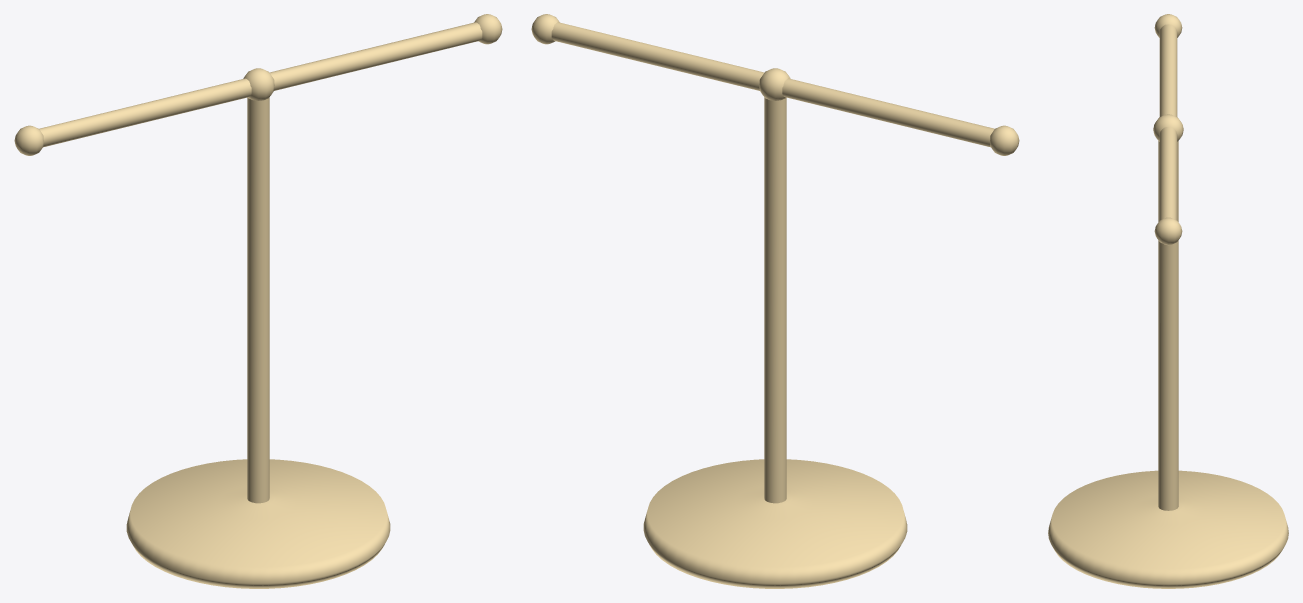
Rendered from EarringStand.obj.
3 renders of one model, left to right at view 1: azimuth 30°, elevation 25°; view 2: azimuth 150°, elevation 25°; view 3: azimuth 270°, elevation 25°, orthographic. The views are drawn at different scales.
Visible parts, largest first — view 1: Brass; view 2: Brass; view 3: Brass.
Boxes of the visible parts, x1=… form: Brass: x1=14, y1=14, x2=502, y2=588; Brass: x1=531, y1=14, x2=1019, y2=588; Brass: x1=1048, y1=14, x2=1288, y2=588.
Bounding box in the file's own units: 0.1396 × 0.1282 × 0.066.
